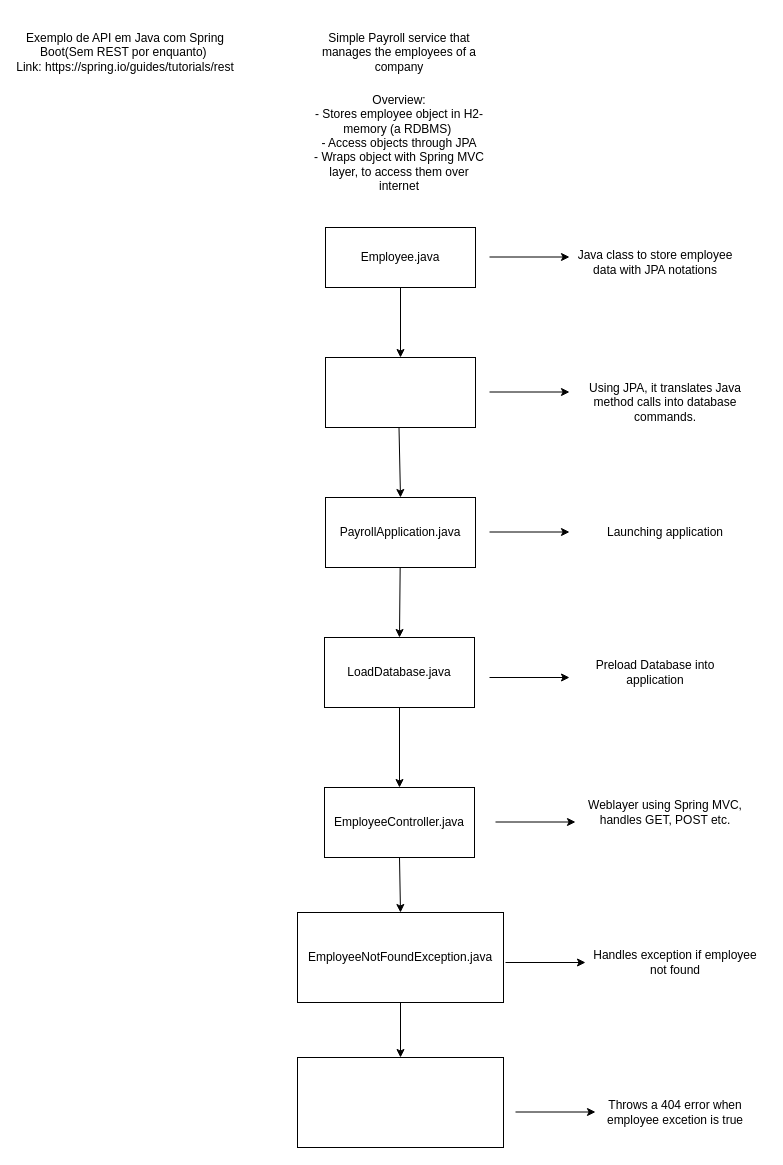
Some shapes in this 783 by 1165 pixel diagram are drawn without their labels. The centre of each missing label's shape, as x and y in pixels:
"EmployeeNotFoundAdvice .java" goes at point 400,1102.
"EmployeeRepository .java" goes at point 400,392.
